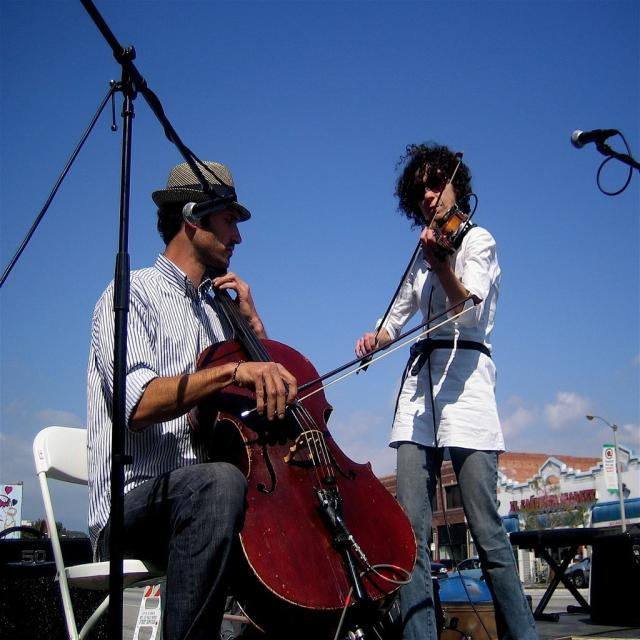cello: (181, 263, 425, 628)
violin: (418, 202, 469, 267)
